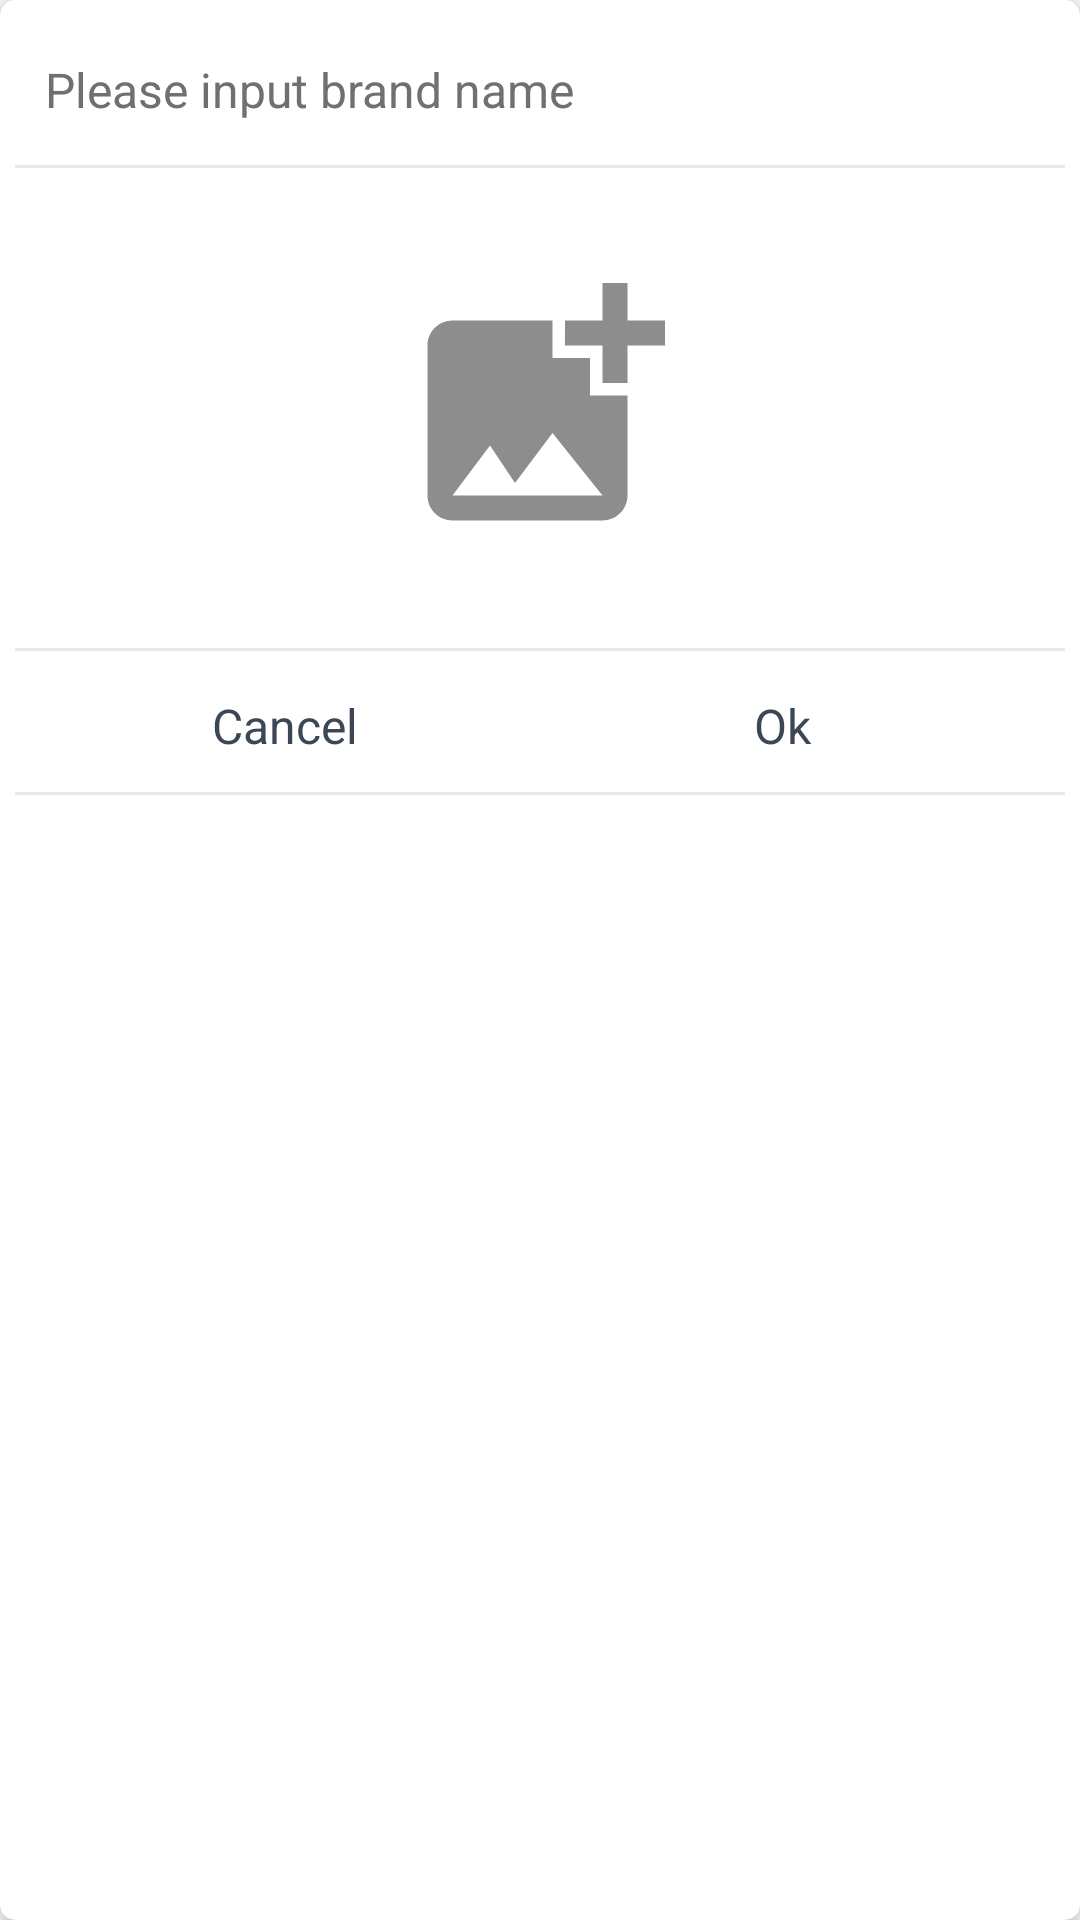

Named icons in this screenshot (1080px x 1920px) and their bounding boxes, {"left": x1, "top": y1, "right": x2, "bottom": y2}:
add photo: {"left": 427, "top": 283, "right": 665, "bottom": 521}
